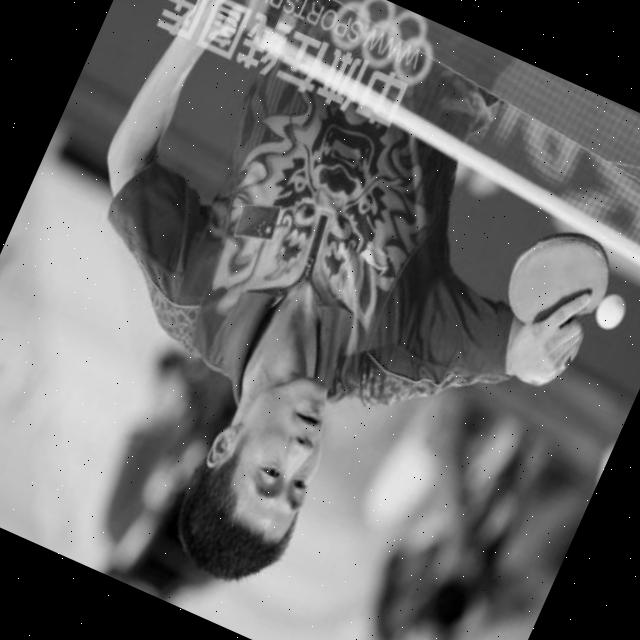ping-pong-ball: (590, 288, 630, 335)
